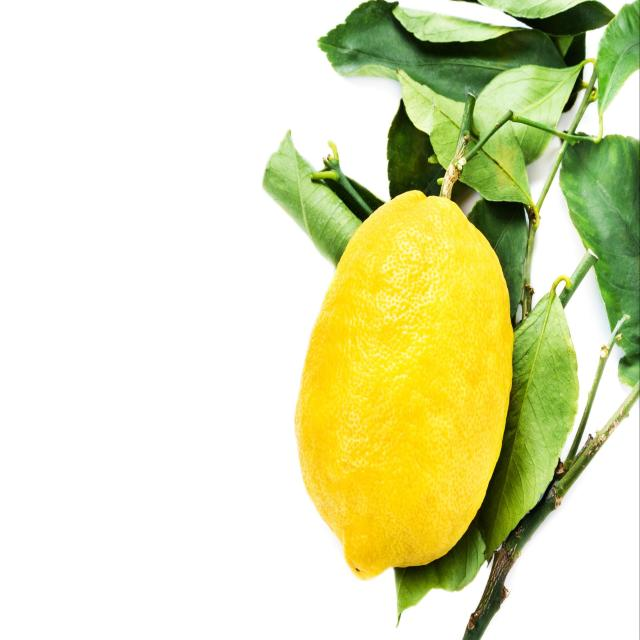lemon: (289, 184, 520, 587)
